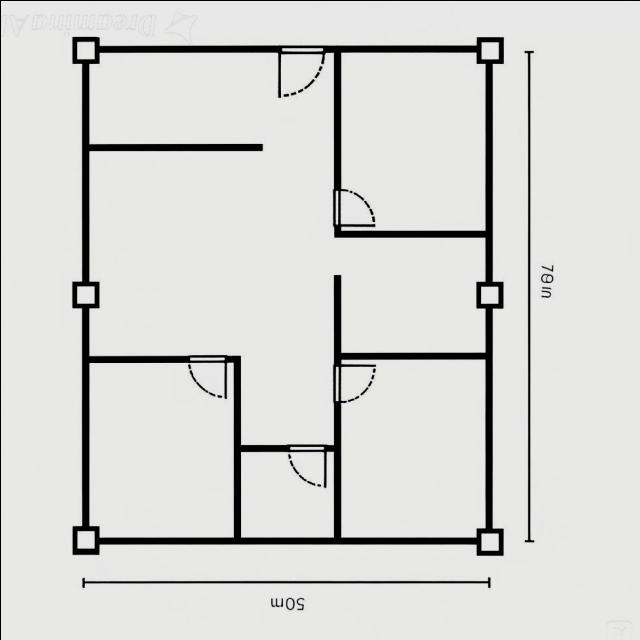column: (68, 519, 104, 559), (471, 522, 507, 560), (68, 274, 104, 312), (67, 31, 103, 69), (470, 277, 508, 313), (472, 32, 508, 69)
